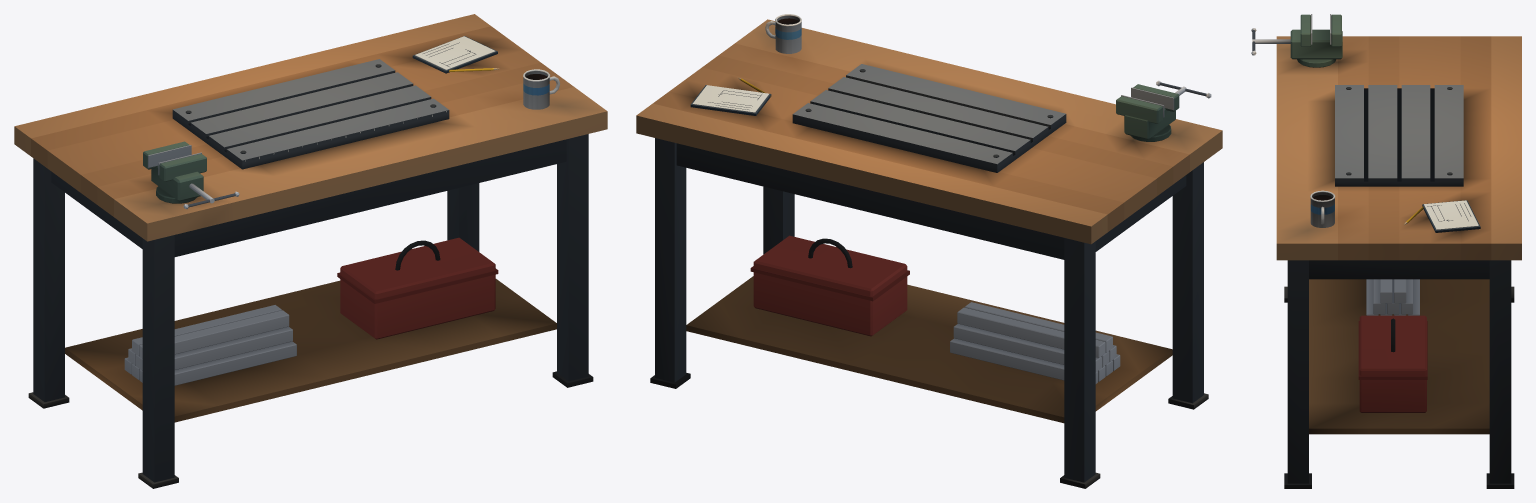
File: workbench.glb
3 renders of one model, left to right at view 1: azimuth 30°, elevation 25°; view 2: azimuth 150°, elevation 25°; view 3: azimuth 270°, elevation 25°, orthographic. The views are drawn at different scales.
Visible parts, largest first — view 1: workbench_mesh; view 2: workbench_mesh; view 3: workbench_mesh.
Boxes of the visible parts, x1=… form: workbench_mesh: x1=14, y1=14, x2=607, y2=488; workbench_mesh: x1=636, y1=14, x2=1222, y2=488; workbench_mesh: x1=1251, y1=14, x2=1521, y2=488.
Bounding box in the file's own units: 1.6 × 1.03 × 0.884.
